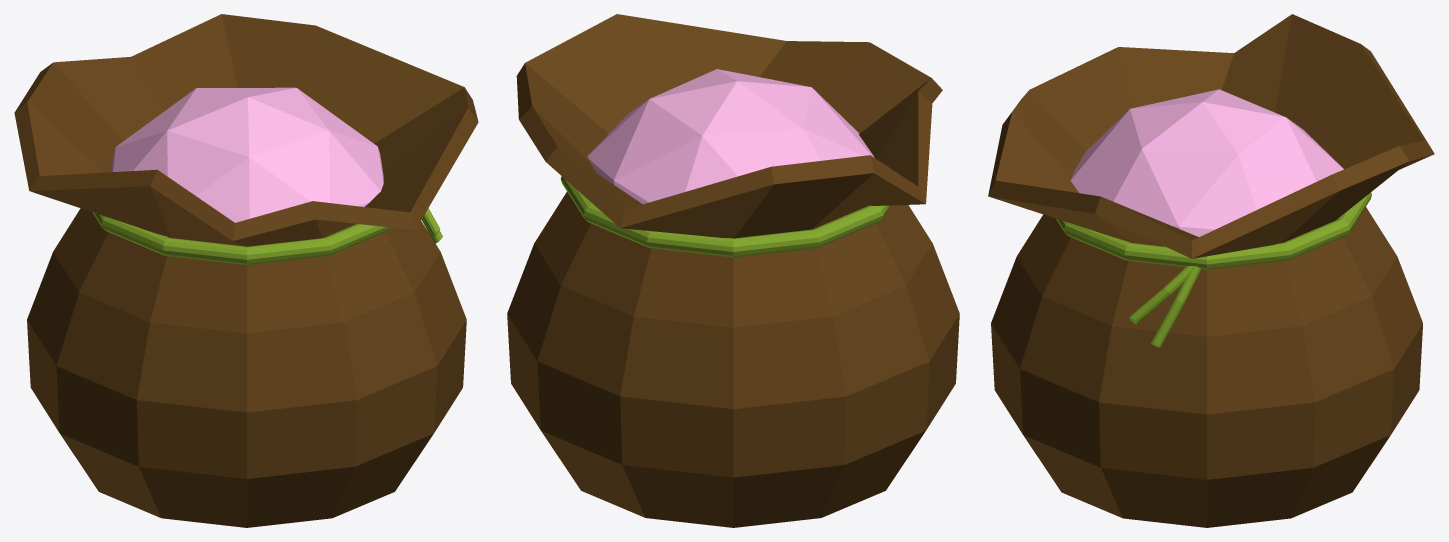
The model's file is Sack_1.fbx.
The picture shows the model from 3 angles, left to right: view 1: azimuth 30°, elevation 25°; view 2: azimuth 150°, elevation 25°; view 3: azimuth 270°, elevation 25°; orthographic projection. The views are drawn at different scales.
Visible parts, largest first — view 1: Cylinder, Icosphere, Torus; view 2: Cylinder, Icosphere, Torus; view 3: Cylinder, Icosphere, Torus.
Part boxes in pixels (x1=…): Cylinder: x1=14, y1=14, x2=478, y2=527; Icosphere: x1=111, y1=87, x2=383, y2=222; Torus: x1=92, y1=208, x2=442, y2=265; Cylinder: x1=507, y1=14, x2=959, y2=527; Icosphere: x1=587, y1=69, x2=874, y2=204; Torus: x1=560, y1=176, x2=890, y2=257; Cylinder: x1=988, y1=14, x2=1434, y2=527; Icosphere: x1=1070, y1=89, x2=1343, y2=236; Torus: x1=1056, y1=192, x2=1371, y2=347.
Bounding box in the file's own units: 259 × 214 × 242.
